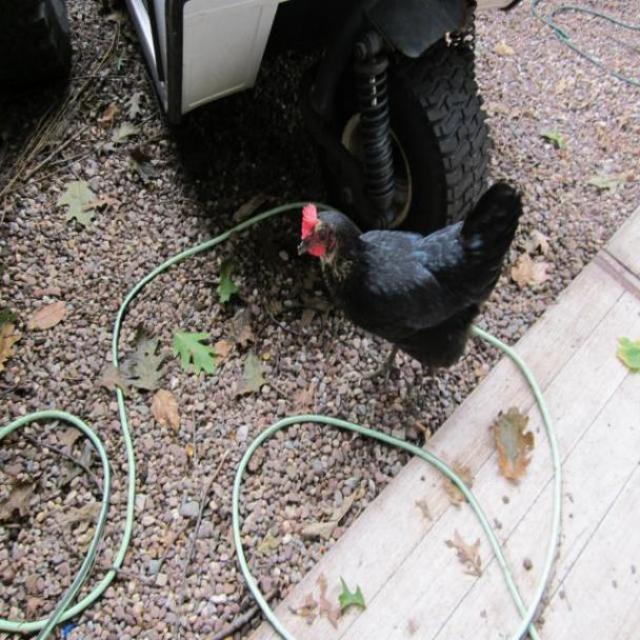Chicken: (299, 179, 523, 370)
